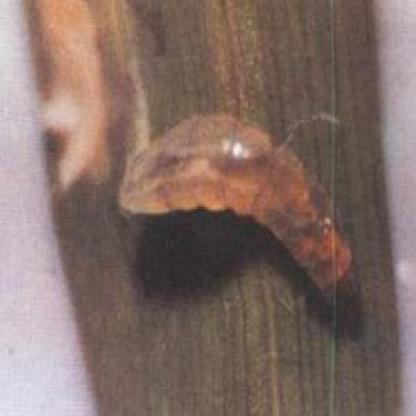whorl-maggot: (116, 108, 359, 292)
